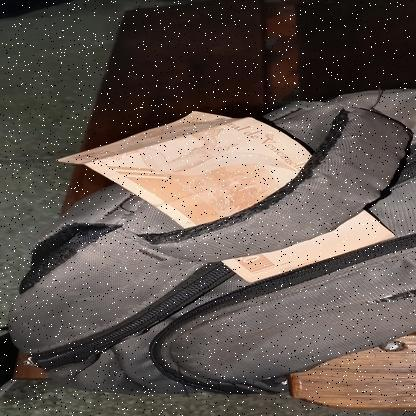twenty-back-vef: (62, 110, 398, 282)
